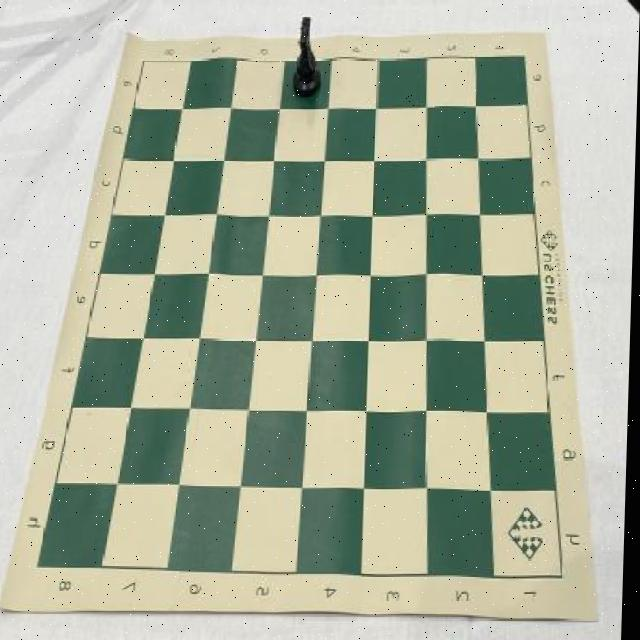black-king: (292, 17, 323, 98)
